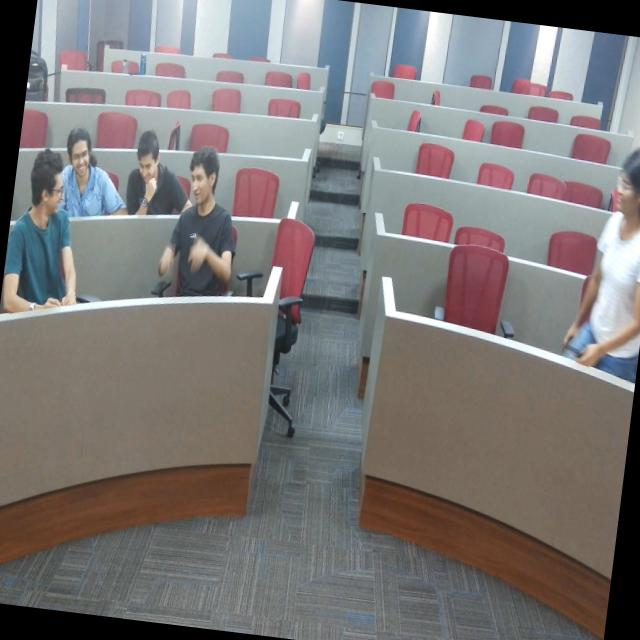cheating: (154, 130, 248, 312), (2, 157, 80, 313), (58, 109, 112, 222)
